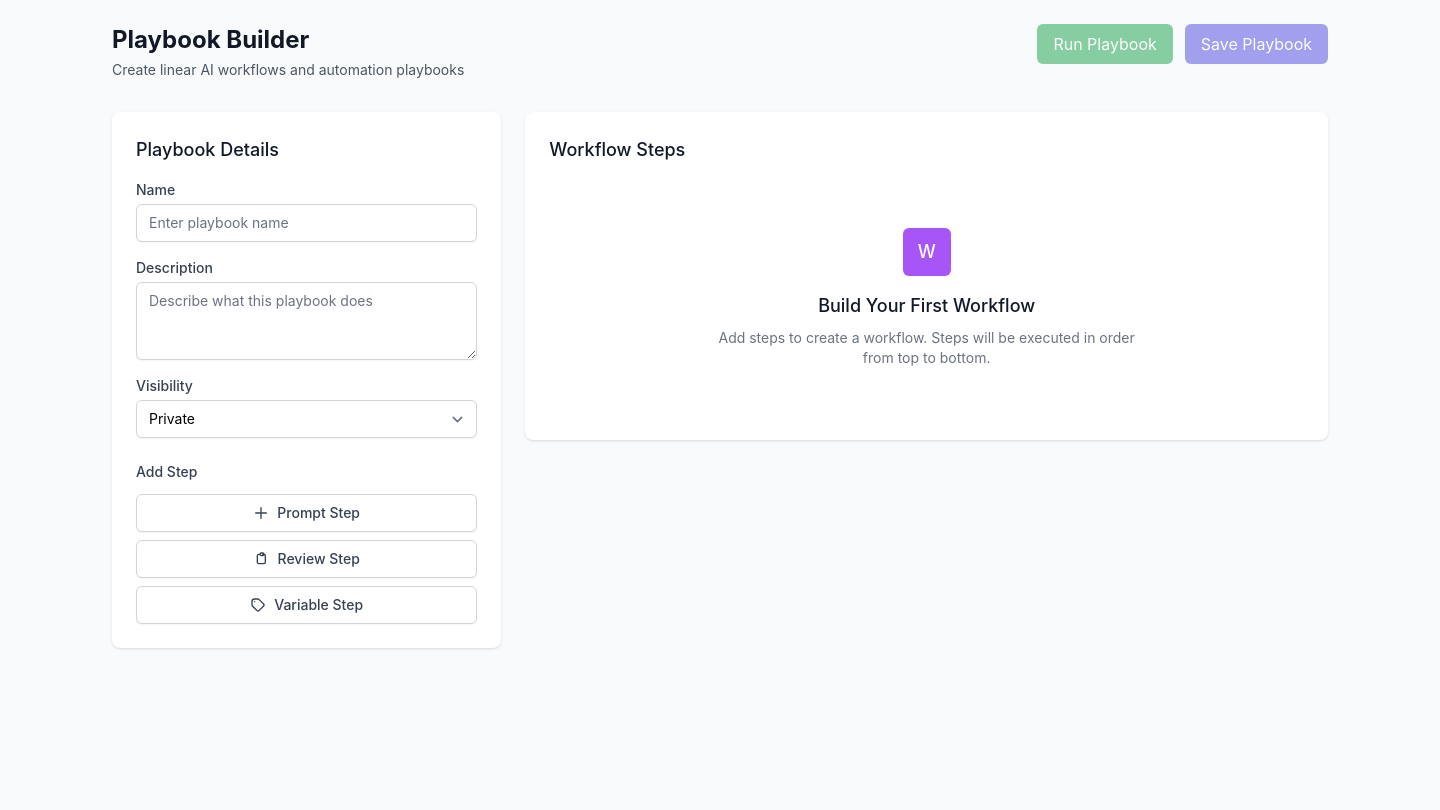
it: PlaybookBuilder › should add review step
Click the button "Review Step".
click(307, 559)  # box [136,540,477,578]
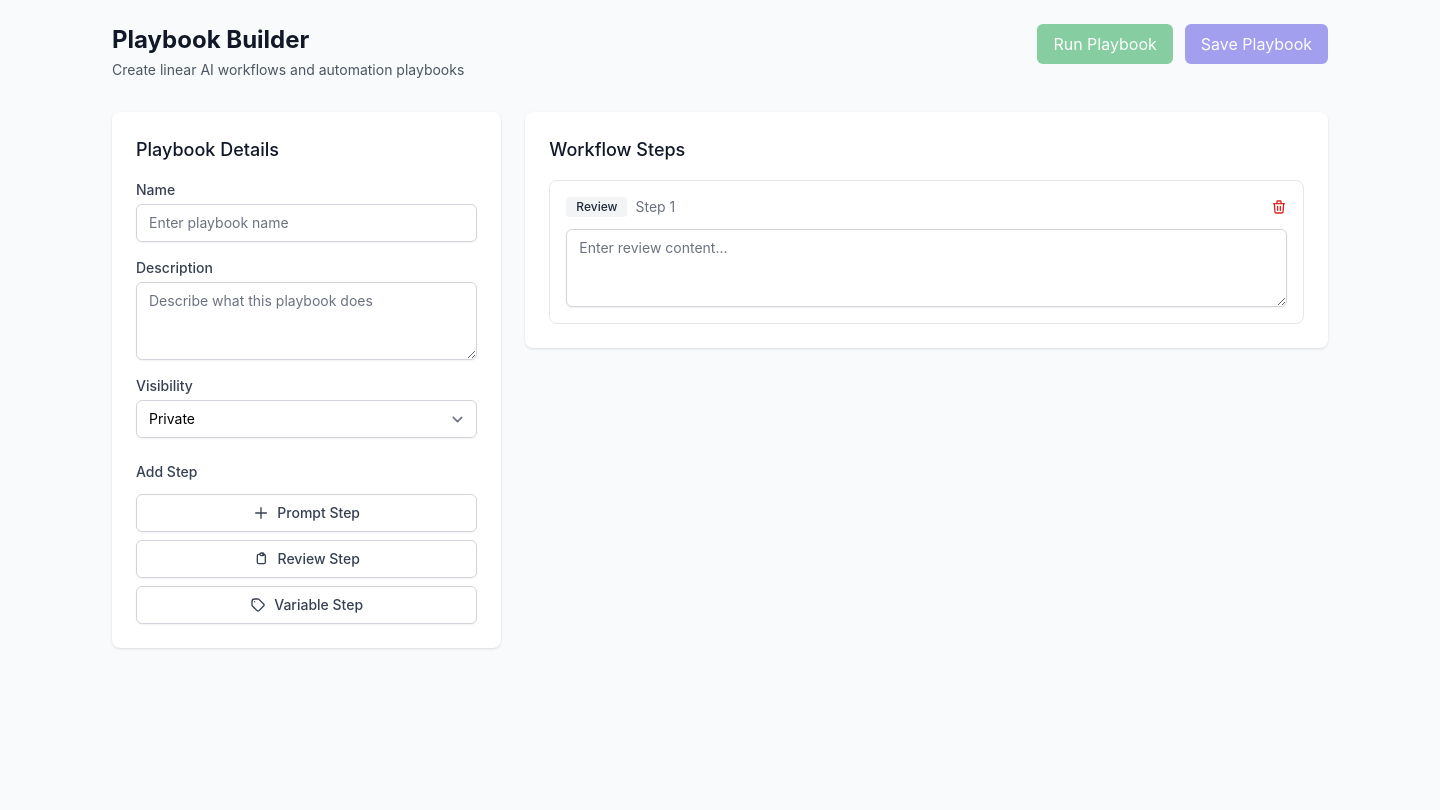
Result: the text "Step 1" is shown at [636,197,675,217]
Result: the text "review" is shown at [566,197,628,217]
